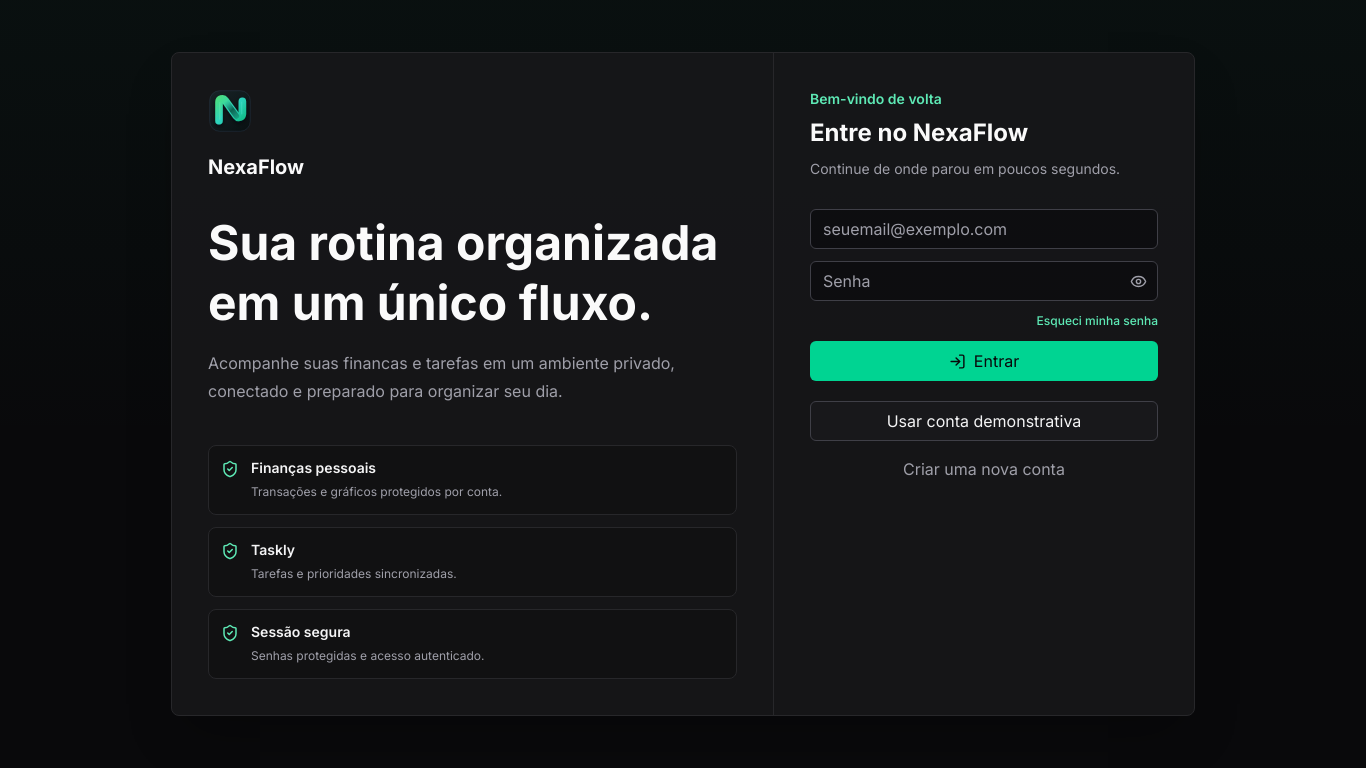
Scenario: NexaFlow › valida email e senha antes de tentar entrar
The width and height of the screenshot is (1366, 768).
Click the button "Entrar".
click(984, 361)  # box [810,341,1158,381]
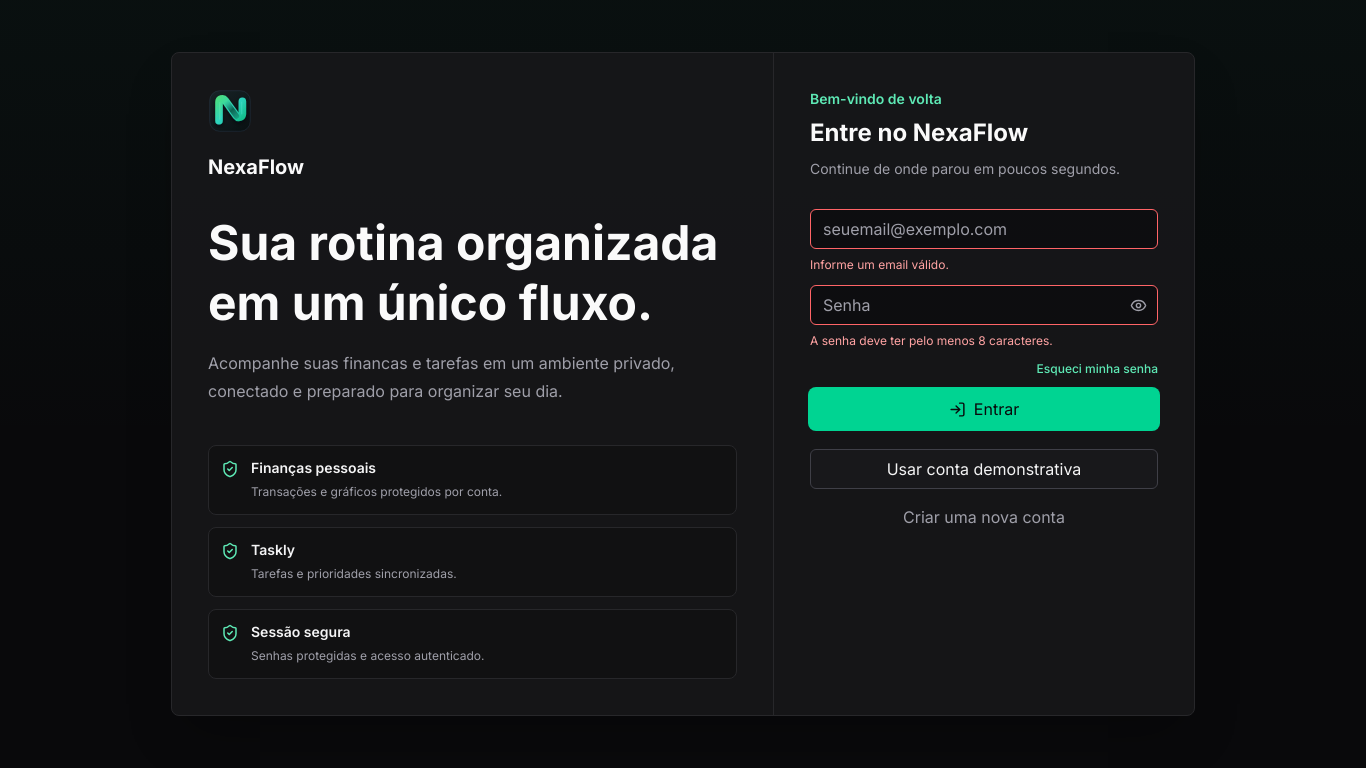
Expected: the text "Informe um email válido." is shown, [810,257,949,272]
Expected: the text "A senha deve ter pelo menos 8 caracteres." is shown, [810,333,1053,348]
